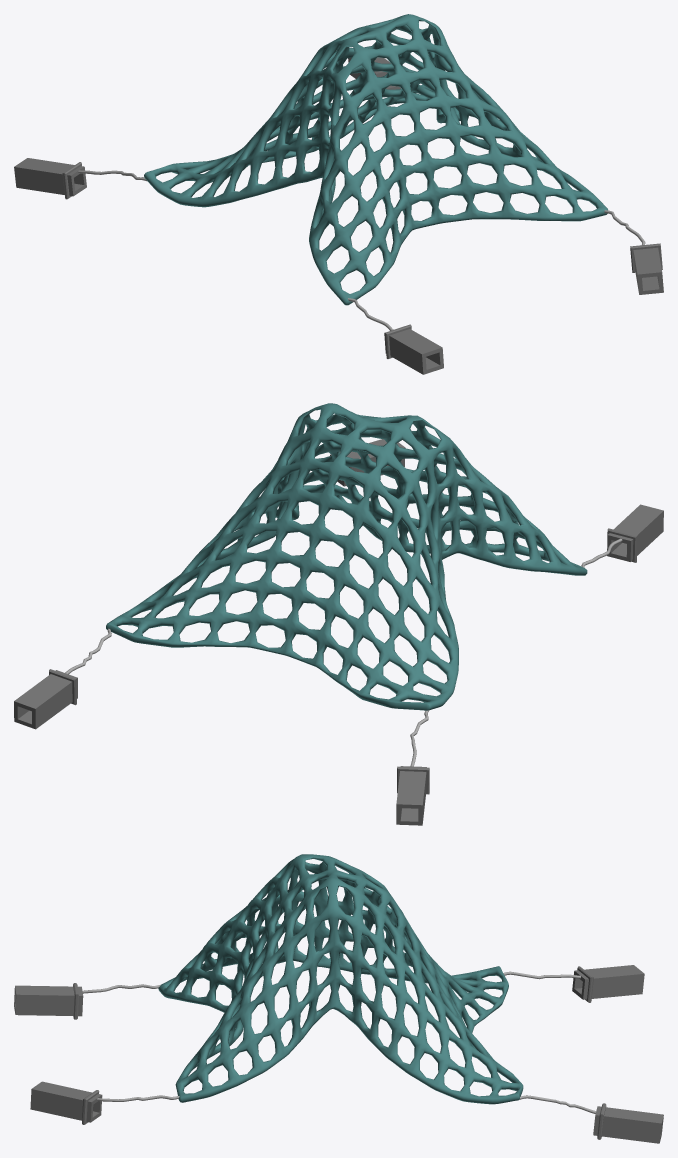
The model's file is Net_Grab.fbx.
The picture shows the model from 3 angles, top to bottom: view 1: azimuth 30°, elevation 25°; view 2: azimuth 150°, elevation 25°; view 3: azimuth 270°, elevation 25°; orthographic projection. The views are drawn at different scales.
Visible parts, largest first — view 1: pasted__pCube17; view 2: pasted__pCube17; view 3: pasted__pCube17.
Boxes of the visible parts, x1,y1,x2,y2 form: pasted__pCube17: (14, 14, 663, 374); pasted__pCube17: (14, 403, 663, 825); pasted__pCube17: (14, 854, 663, 1143).
Size of the model in its own units: 2.78 by 1.62 by 4.33.
